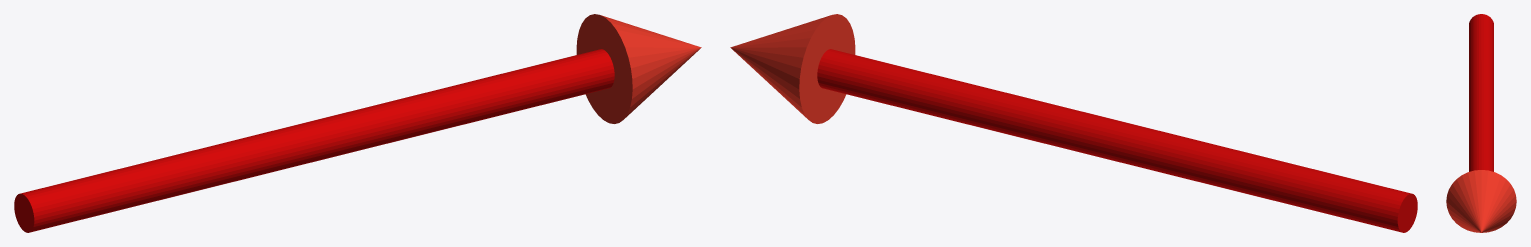
File: harpoon.dae
The picture shows the model from 3 angles, left to right: view 1: azimuth 30°, elevation 25°; view 2: azimuth 150°, elevation 25°; view 3: azimuth 270°, elevation 25°; orthographic projection. The views are drawn at different scales.
Visible parts, largest first — view 1: Cylinder, Cone; view 2: Cylinder, Cone; view 3: Cylinder, Cone.
Boxes of the visible parts, bbox=[...] form: Cylinder: bbox=[14, 49, 614, 232]; Cone: bbox=[576, 14, 701, 123]; Cylinder: bbox=[817, 49, 1417, 232]; Cone: bbox=[730, 14, 855, 123]; Cylinder: bbox=[1469, 14, 1493, 171]; Cone: bbox=[1446, 170, 1516, 232].
Bounding box in the file's own units: 14.8 × 2.12 × 2.12.
